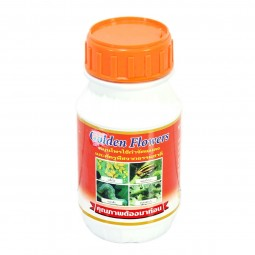Insecticide: (72, 14, 187, 246)
